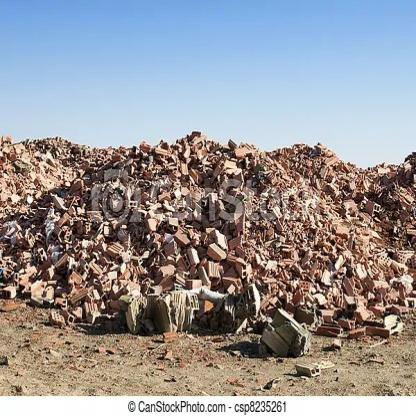brick: (0, 133, 415, 393)
